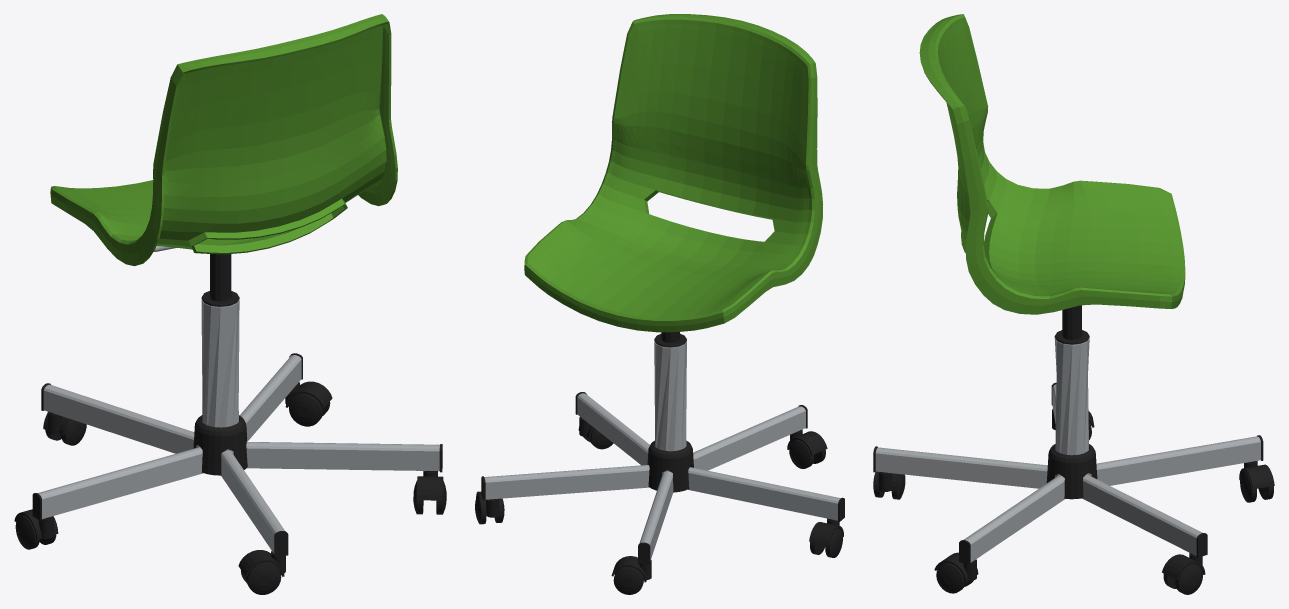
3 views of the same model, side by side, from view 1: azimuth 30°, elevation 25°; view 2: azimuth 150°, elevation 25°; view 3: azimuth 270°, elevation 25° (orthographic). The views are drawn at different scales.
Parts seen in each view (by area): view 1: Mesh2 Group2 SNILLE_IKEA1 Model, Mesh8 Group6 SNILLE_IKEA1 Model, Mesh7 Group5 SNILLE_IKEA1 Model, Mesh1 Group1 SNILLE_IKEA1 Model, Mesh3 Group3 SNILLE_IKEA1 Model, Mesh14 ROULETTE2 SNILLE_IKEA1 Model, Mesh22 ROULETTE5 SNILLE_IKEA1 Model, Mesh15 ROULETTE3 SNILLE_IKEA1 Model, Mesh12 ROULETTE2 SNILLE_IKEA1 Model, Mesh21 ROULETTE5 SNILLE_IKEA1 Model, Mesh18 ROULETTE4 SNILLE_IKEA1 Model, Mesh20 ROULETTE4 SNILLE_IKEA1 Model; view 2: Mesh2 Group2 SNILLE_IKEA1 Model, Mesh8 Group6 SNILLE_IKEA1 Model, Mesh7 Group5 SNILLE_IKEA1 Model, Mesh1 Group1 SNILLE_IKEA1 Model, Mesh11 ROULETTE1 SNILLE_IKEA1 Model, Mesh18 ROULETTE4 SNILLE_IKEA1 Model, Mesh12 ROULETTE2 SNILLE_IKEA1 Model, Mesh13 ROULETTE2 SNILLE_IKEA1 Model; view 3: Mesh2 Group2 SNILLE_IKEA1 Model, Mesh8 Group6 SNILLE_IKEA1 Model, Mesh7 Group5 SNILLE_IKEA1 Model, Mesh1 Group1 SNILLE_IKEA1 Model, Mesh3 Group3 SNILLE_IKEA1 Model, Mesh17 ROULETTE3 SNILLE_IKEA1 Model, Mesh9 ROULETTE1 SNILLE_IKEA1 Model, Mesh23 ROULETTE5 SNILLE_IKEA1 Model, Mesh21 ROULETTE5 SNILLE_IKEA1 Model.
Boxes of the visible parts, <box> form: Mesh2 Group2 SNILLE_IKEA1 Model: <box>50,14,397,266</box>; Mesh8 Group6 SNILLE_IKEA1 Model: <box>32,353,442,556</box>; Mesh7 Group5 SNILLE_IKEA1 Model: <box>201,299,239,427</box>; Mesh1 Group1 SNILLE_IKEA1 Model: <box>193,415,247,475</box>; Mesh3 Group3 SNILLE_IKEA1 Model: <box>201,254,239,306</box>; Mesh14 ROULETTE2 SNILLE_IKEA1 Model: <box>246,562,281,594</box>; Mesh22 ROULETTE5 SNILLE_IKEA1 Model: <box>289,393,323,426</box>; Mesh15 ROULETTE3 SNILLE_IKEA1 Model: <box>416,471,443,500</box>; Mesh12 ROULETTE2 SNILLE_IKEA1 Model: <box>238,550,285,576</box>; Mesh21 ROULETTE5 SNILLE_IKEA1 Model: <box>285,381,332,408</box>; Mesh18 ROULETTE4 SNILLE_IKEA1 Model: <box>14,509,58,539</box>; Mesh20 ROULETTE4 SNILLE_IKEA1 Model: <box>15,515,39,549</box>; Mesh2 Group2 SNILLE_IKEA1 Model: <box>524,14,822,332</box>; Mesh8 Group6 SNILLE_IKEA1 Model: <box>481,392,844,564</box>; Mesh7 Group5 SNILLE_IKEA1 Model: <box>654,341,686,451</box>; Mesh1 Group1 SNILLE_IKEA1 Model: <box>647,440,693,492</box>; Mesh11 ROULETTE1 SNILLE_IKEA1 Model: <box>613,567,643,594</box>; Mesh18 ROULETTE4 SNILLE_IKEA1 Model: <box>809,518,843,545</box>; Mesh12 ROULETTE2 SNILLE_IKEA1 Model: <box>787,429,827,455</box>; Mesh13 ROULETTE2 SNILLE_IKEA1 Model: <box>789,439,814,468</box>; Mesh2 Group2 SNILLE_IKEA1 Model: <box>919,14,1185,314</box>; Mesh8 Group6 SNILLE_IKEA1 Model: <box>873,382,1263,564</box>; Mesh7 Group5 SNILLE_IKEA1 Model: <box>1054,338,1089,455</box>; Mesh1 Group1 SNILLE_IKEA1 Model: <box>1046,444,1097,499</box>; Mesh3 Group3 SNILLE_IKEA1 Model: <box>1054,305,1089,344</box>; Mesh17 ROULETTE3 SNILLE_IKEA1 Model: <box>936,562,965,593</box>; Mesh9 ROULETTE1 SNILLE_IKEA1 Model: <box>1239,461,1274,489</box>; Mesh23 ROULETTE5 SNILLE_IKEA1 Model: <box>1175,564,1202,594</box>; Mesh21 ROULETTE5 SNILLE_IKEA1 Model: <box>1162,553,1205,580</box>.
Size of the model in its own units: 0.5765 by 0.7775 by 0.5972.
